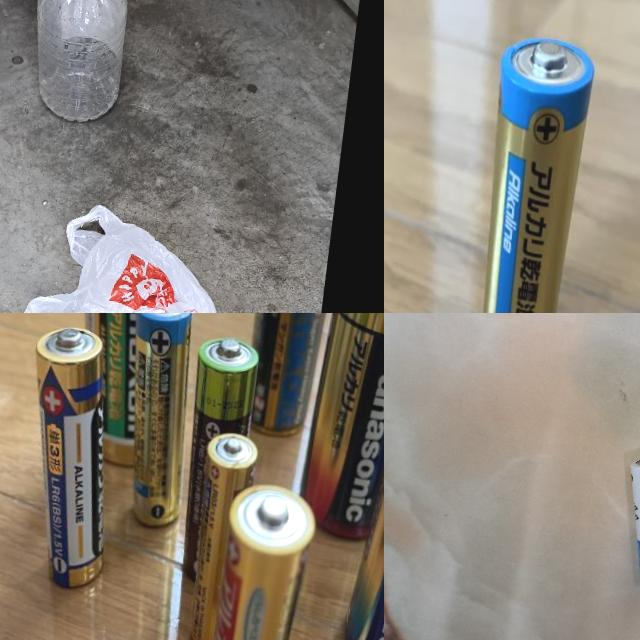bateria: (459, 22, 603, 313), (6, 318, 134, 596), (168, 328, 266, 588), (50, 313, 211, 471), (188, 468, 322, 640), (108, 313, 206, 532), (295, 313, 384, 550), (180, 426, 262, 640), (232, 313, 338, 445), (614, 451, 640, 607)
garrafa plástica: (22, 0, 134, 126)
sacola plástica: (9, 194, 234, 313)
